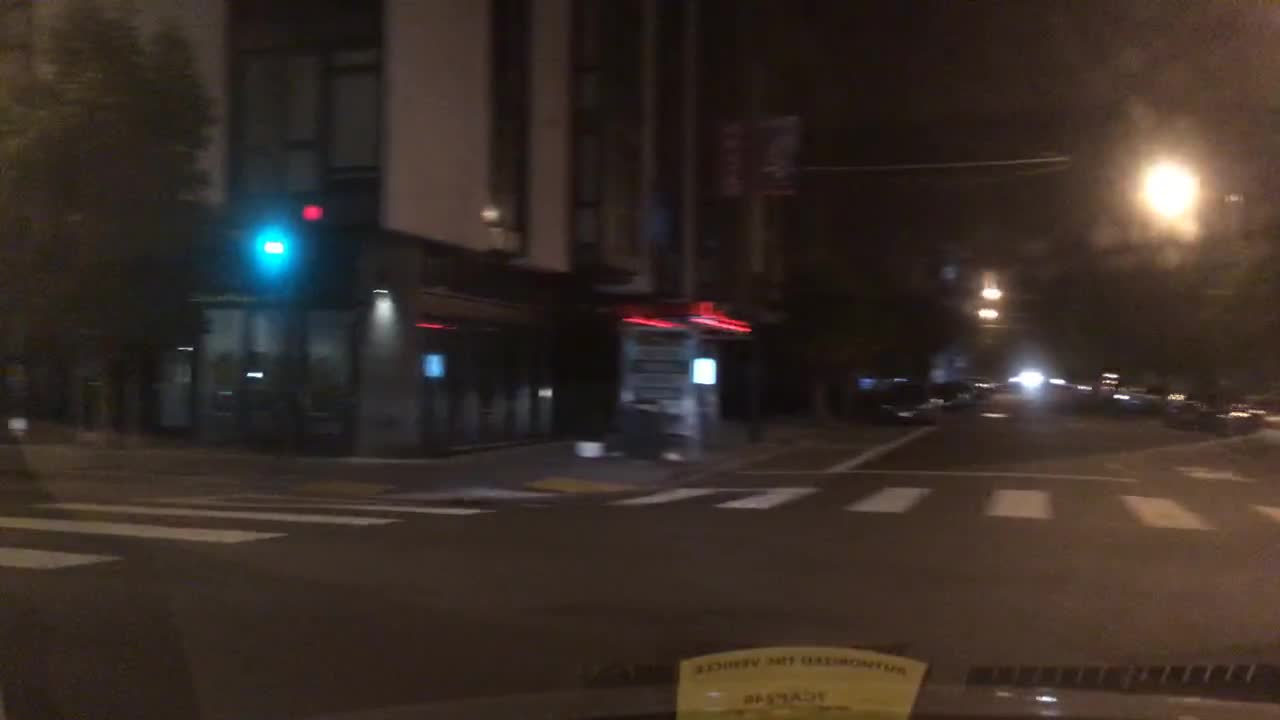car: (879, 376, 942, 425), (1158, 390, 1212, 432), (1202, 397, 1260, 436), (1110, 386, 1163, 415), (934, 378, 974, 408), (1015, 365, 1051, 391), (968, 373, 995, 399)
traffic light: (263, 225, 281, 271)
